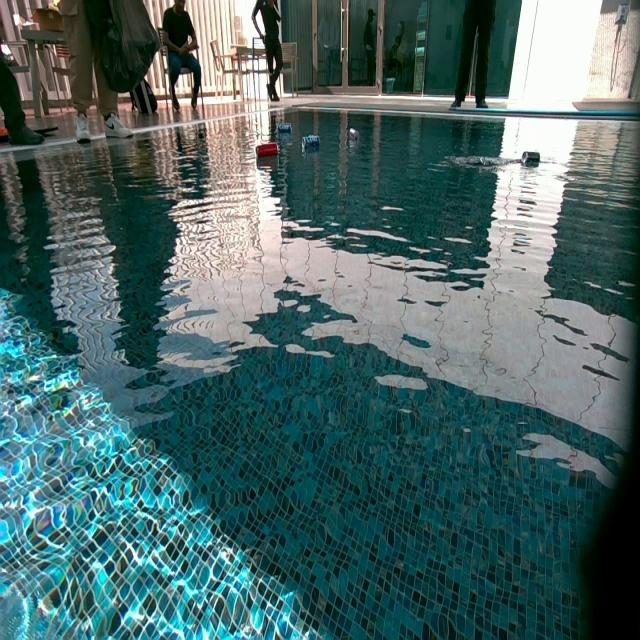Cans: (256, 142, 280, 158), (302, 136, 322, 152), (521, 150, 541, 164), (278, 123, 292, 136), (349, 128, 360, 142)
